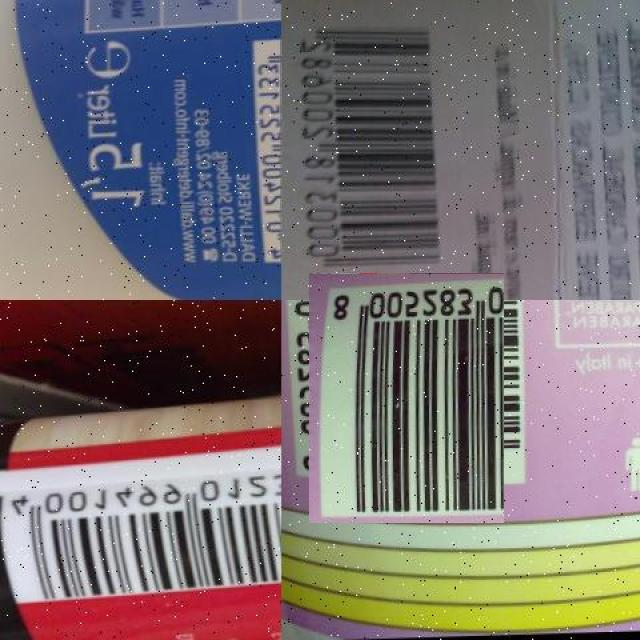Barcode: (281, 4, 452, 300), (295, 286, 517, 509), (0, 461, 281, 603), (246, 35, 282, 264)
